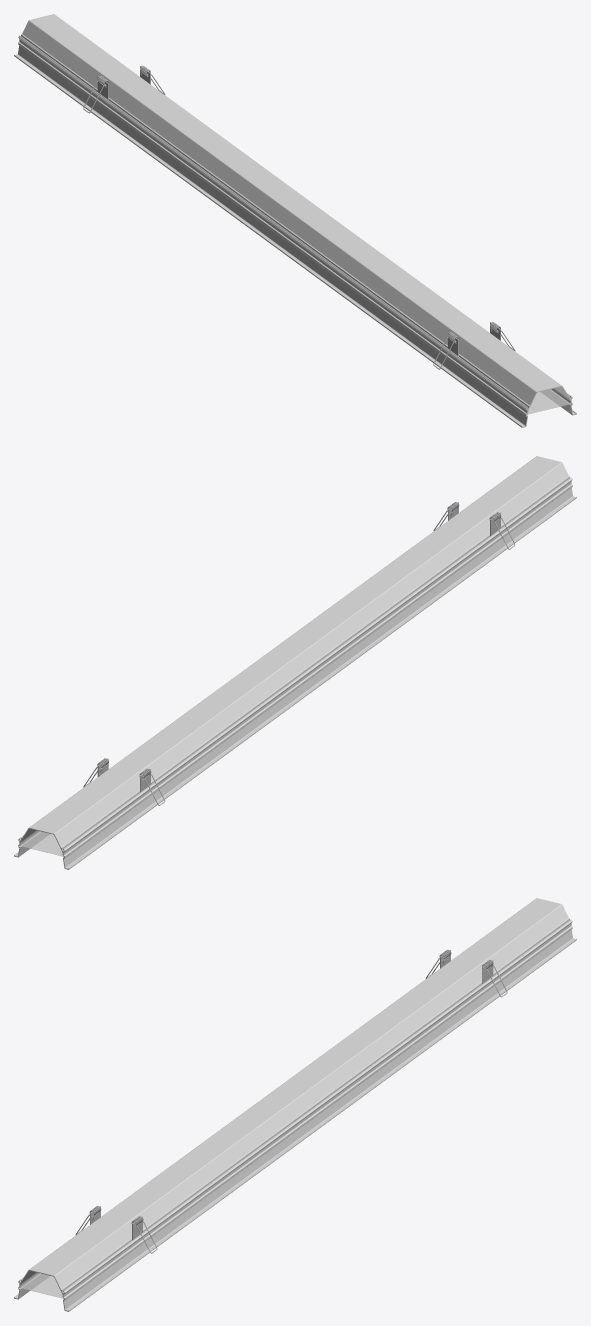
Rendered from Fit60Embutido.glb.
The picture shows the model from 3 angles, top to bottom: view 1: azimuth 30°, elevation 25°; view 2: azimuth 150°, elevation 25°; view 3: azimuth 330°, elevation 25°; orthographic projection.
Visible parts, largest first — view 1: Geom3D (×2); view 2: Geom3D (×2); view 3: Geom3D (×2).
Boxes of the visible parts, bbox=[...] form: Geom3D (×2): bbox=[14, 14, 576, 427]; Geom3D (×2): bbox=[14, 456, 576, 869]; Geom3D (×2): bbox=[14, 898, 576, 1311].
Size of what is drawn, in the model's own units: 0.111 by 0.0514 by 1.28.
Materials: 3 (1 with a texture image).
